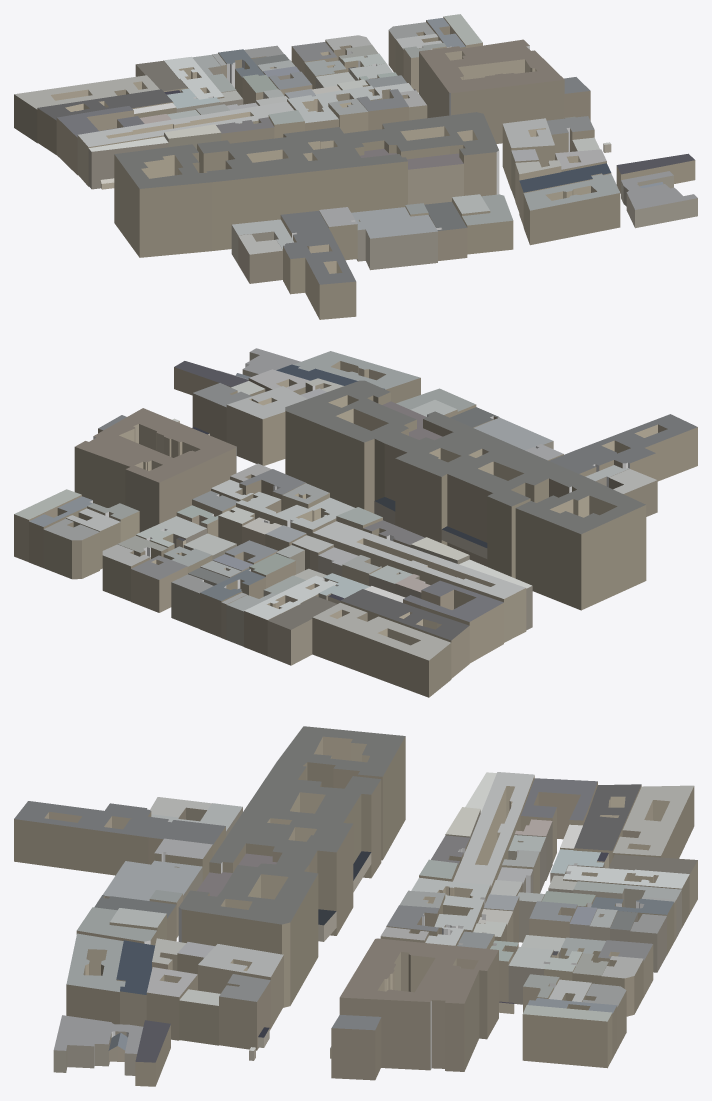
3 views of the same model, one above another, from view 1: azimuth 30°, elevation 25°; view 2: azimuth 150°, elevation 25°; view 3: azimuth 270°, elevation 25° (orthographic). The views are drawn at different scales.
Visible parts, largest first — view 1: tuile; view 2: tuile; view 3: tuile.
Boxes of the visible parts, x1=… form: tuile: x1=14, y1=14, x2=697, y2=319; tuile: x1=14, y1=348, x2=697, y2=697; tuile: x1=14, y1=726, x2=697, y2=1086.
Bounding box in the file's own units: 301 × 40.66 × 301.
